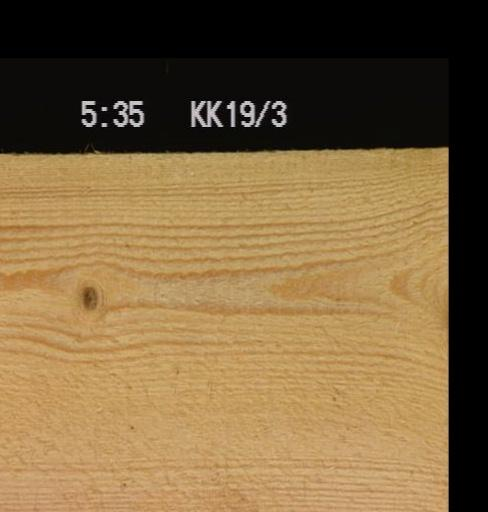sound_knot: (78, 283, 98, 310)
